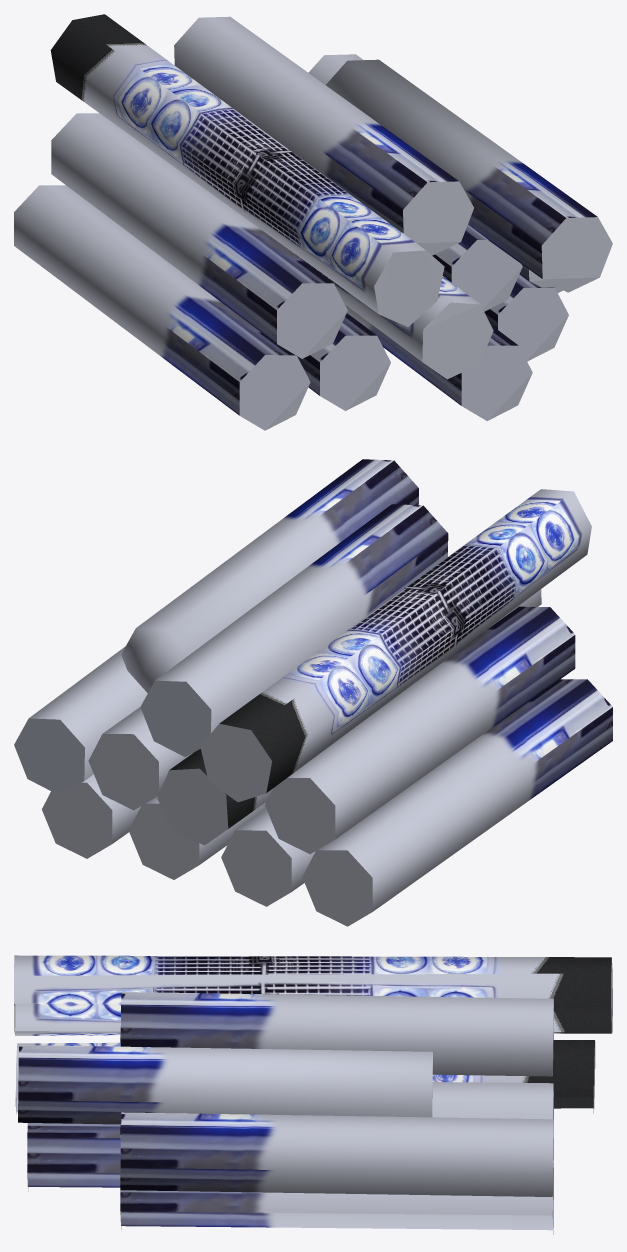
File: bard3.FBX
3 renders of one model, top to bottom at view 1: azimuth 30°, elevation 25°; view 2: azimuth 150°, elevation 25°; view 3: azimuth 270°, elevation 25°, orthographic. The views are drawn at different scales.
Parts seen in each view (by area): view 1: bard3; view 2: bard3; view 3: bard3.
Boxes of the visible parts, x1=… form: bard3: x1=14, y1=14, x2=612, y2=430; bard3: x1=14, y1=459, x2=612, y2=926; bard3: x1=14, y1=955, x2=612, y2=1234.
Size of the model in its own units: 251 by 139 by 385.
